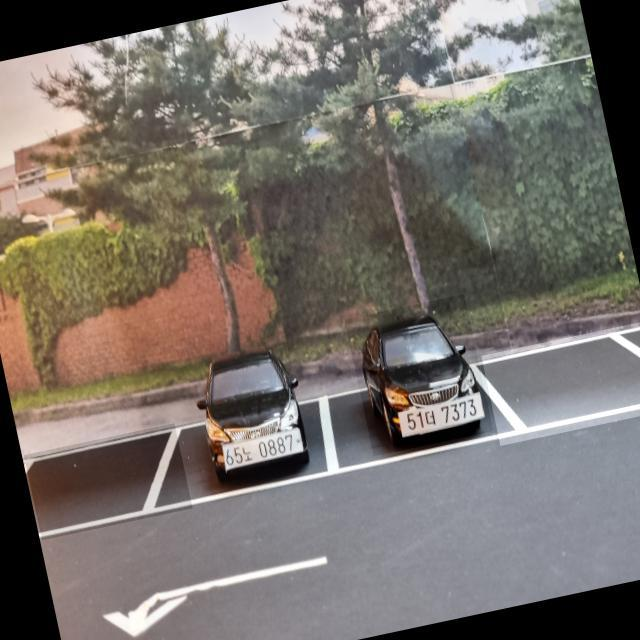empty: (24, 422, 193, 540), (481, 320, 640, 445)
occupied: (174, 326, 330, 492), (344, 294, 492, 456)
